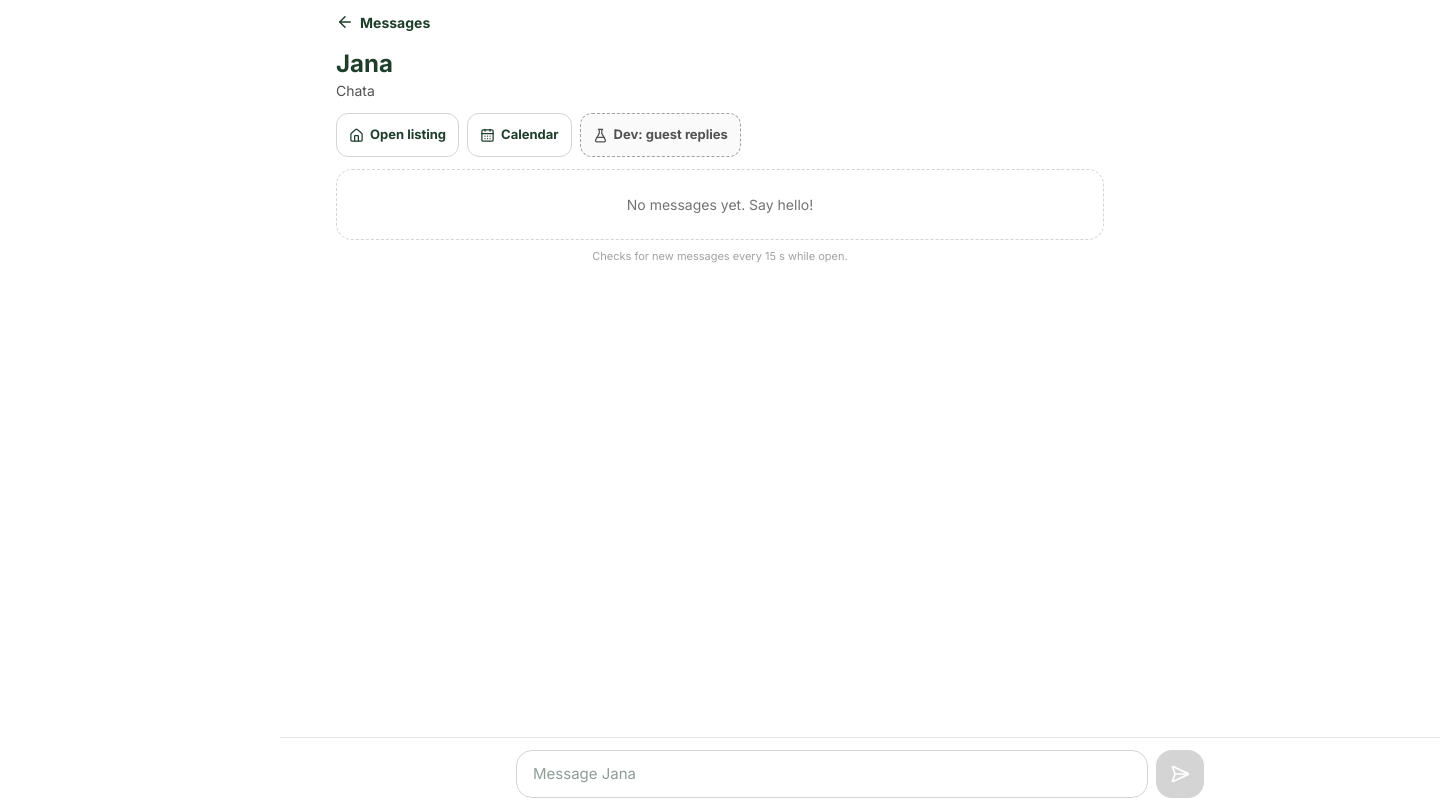
ConversationPage failure recovery › offers Retry for a network failure and sends the identical message again
In the text box labelled "Message": (832, 774) [516,750,1148,798], type "Are you there?"
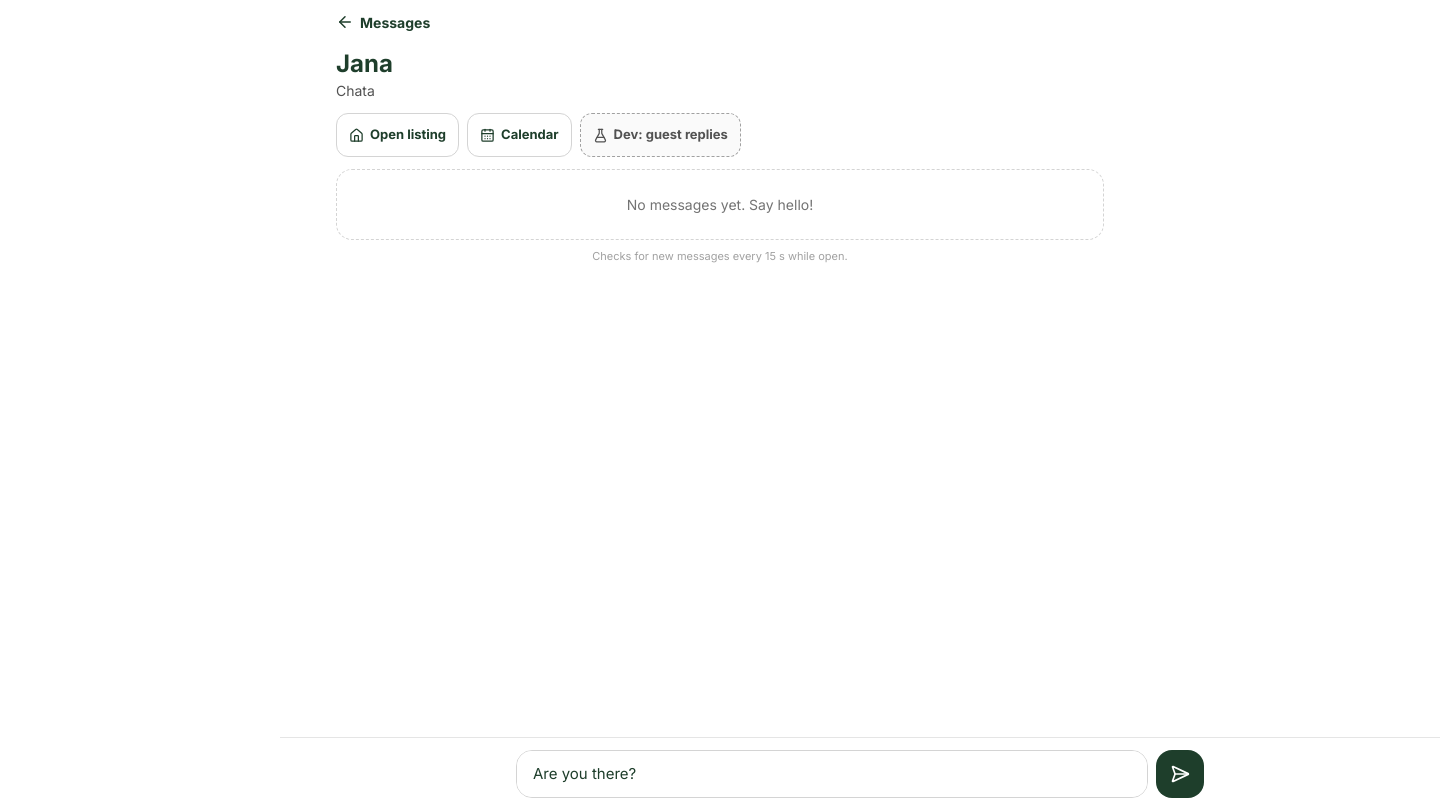
Click the button named "Send": (1180, 774) [1156,750,1204,798]
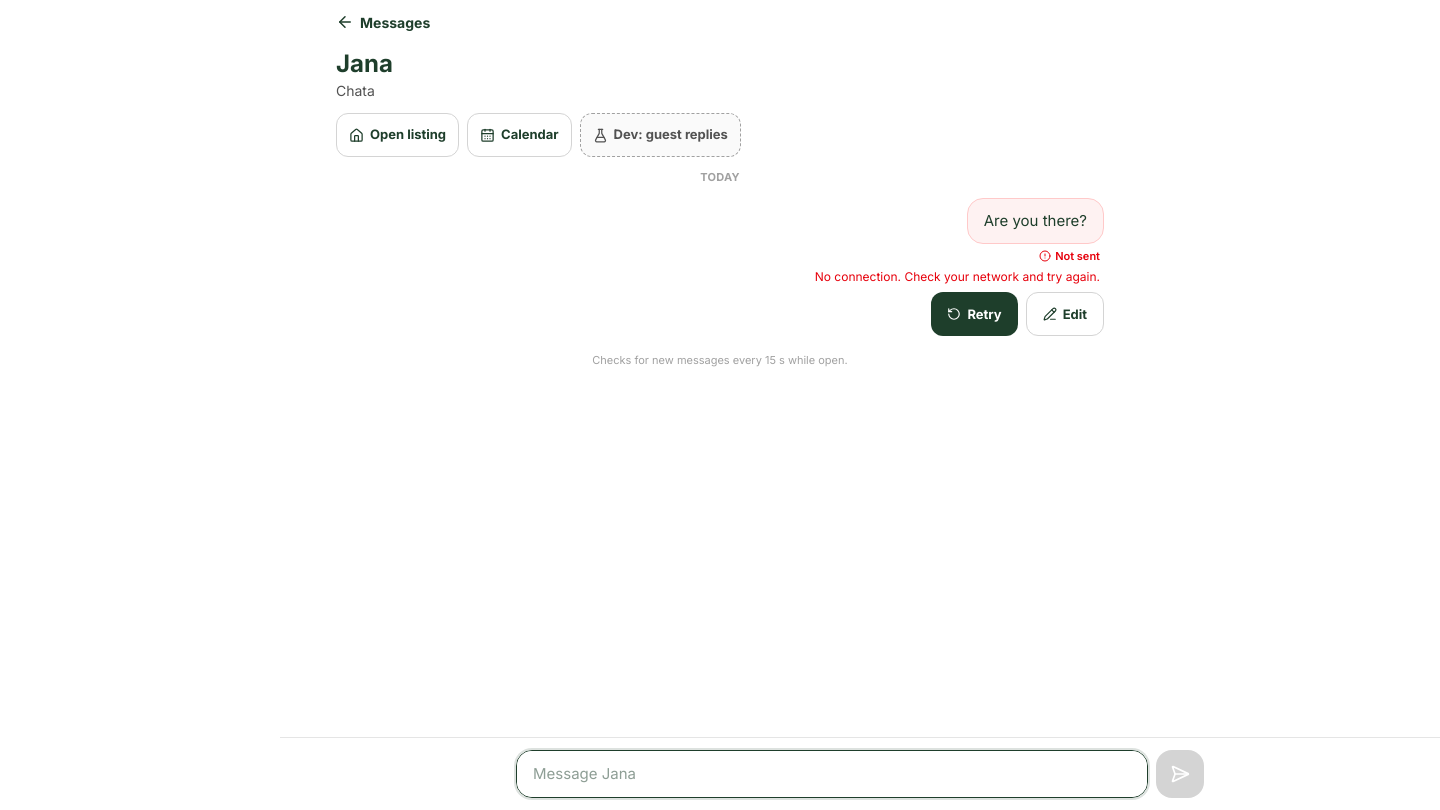
expect the text "Not sent" is shown: met, box [1055,248,1100,264]
Click the button "Retry": (974, 314) [931,292,1018,336]
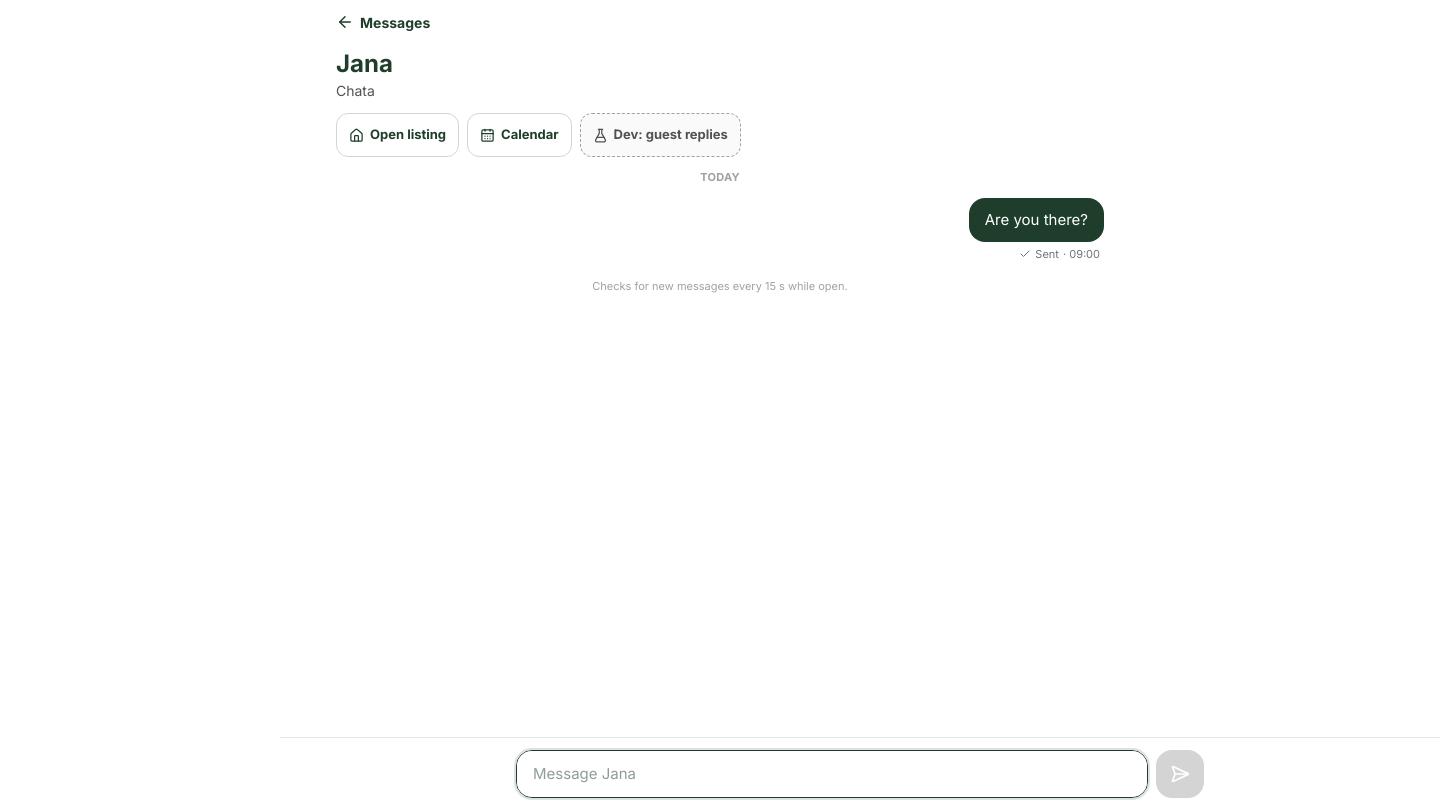
expect the text "Are you there?" is shown once: met, box [969,198,1104,242]
expect the text "Not sent" is gone: met
